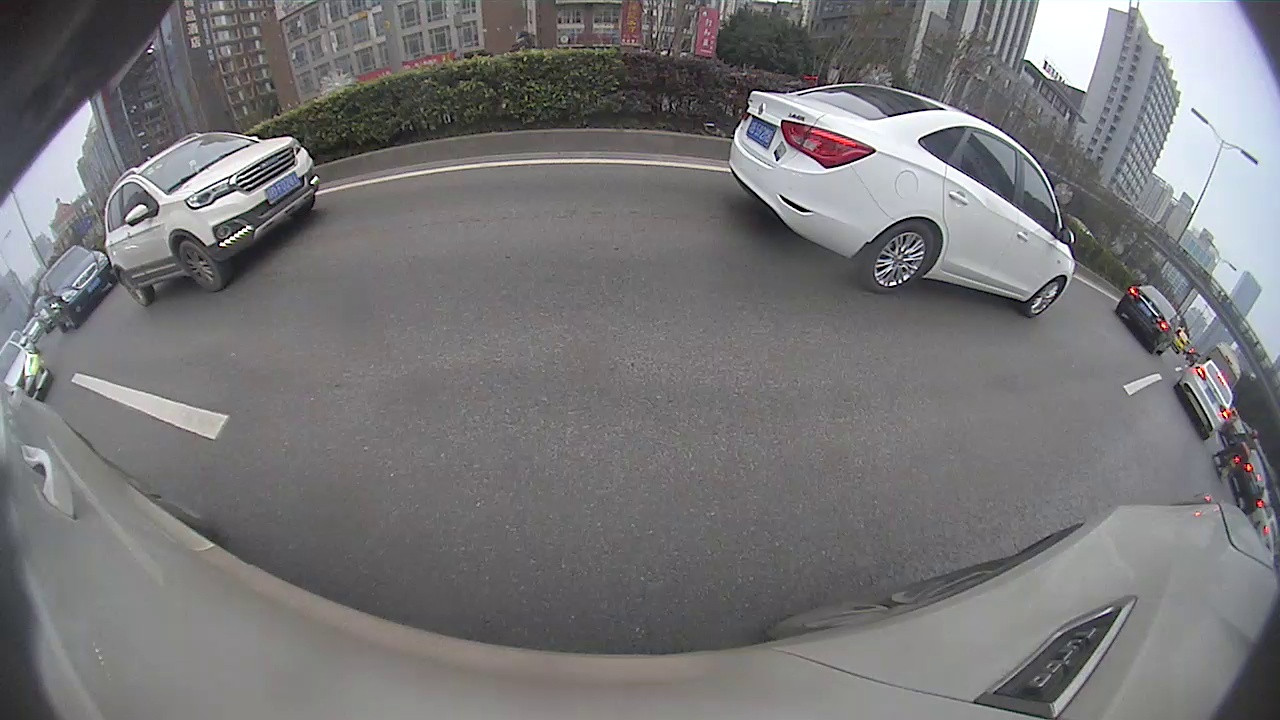bus: (2, 200, 254, 411), (967, 159, 1216, 323)
car: (1144, 283, 1279, 415), (899, 183, 1007, 237), (811, 166, 888, 207), (727, 159, 766, 190), (761, 162, 789, 186), (623, 162, 647, 182)
front: (1163, 311, 1199, 362), (901, 198, 914, 216)
rear: (1091, 251, 1124, 289), (952, 211, 968, 232)
